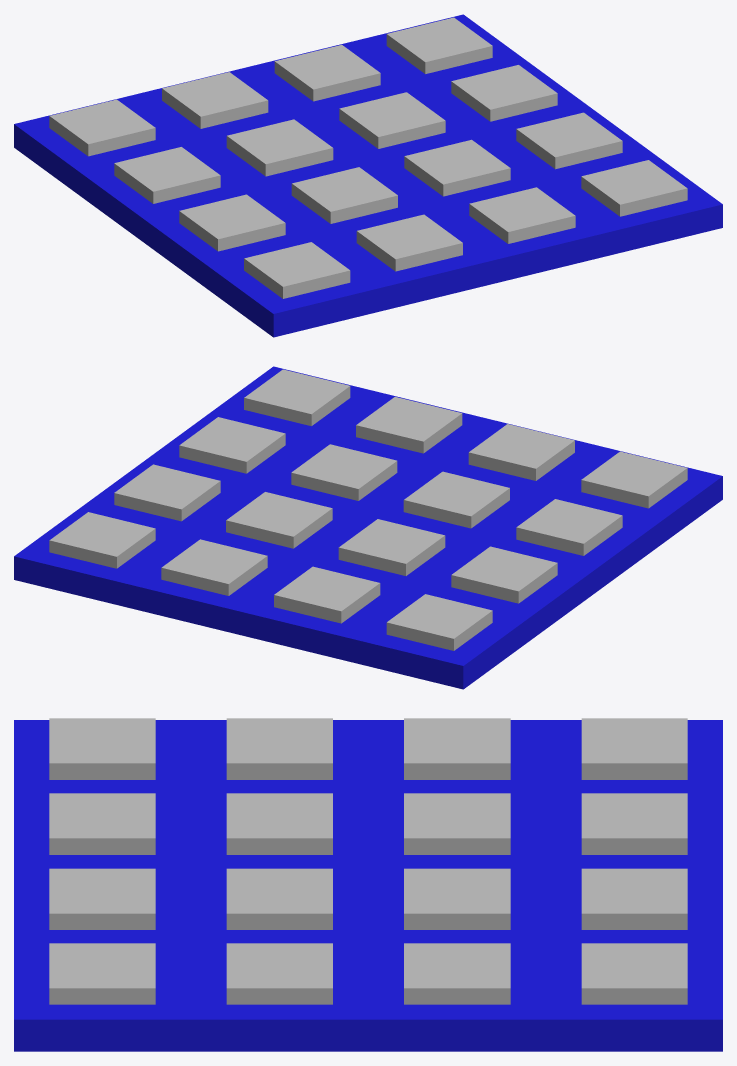
File: stud plate.fbx
3 views of the same model, one above another, from view 1: azimuth 30°, elevation 25°; view 2: azimuth 150°, elevation 25°; view 3: azimuth 270°, elevation 25° (orthographic). The views are drawn at different scales.
Parts seen in each view (by area): view 1: base, studs; view 2: base, studs; view 3: base, studs.
Part boxes in pixels (bbox=[...]): base: bbox=[14, 14, 722, 337]; studs: bbox=[49, 17, 687, 298]; base: bbox=[14, 366, 722, 689]; studs: bbox=[49, 369, 687, 650]; base: bbox=[14, 720, 722, 1051]; studs: bbox=[49, 718, 687, 1004].
Bounding box in the file's own units: 200 × 15.22 × 200.
